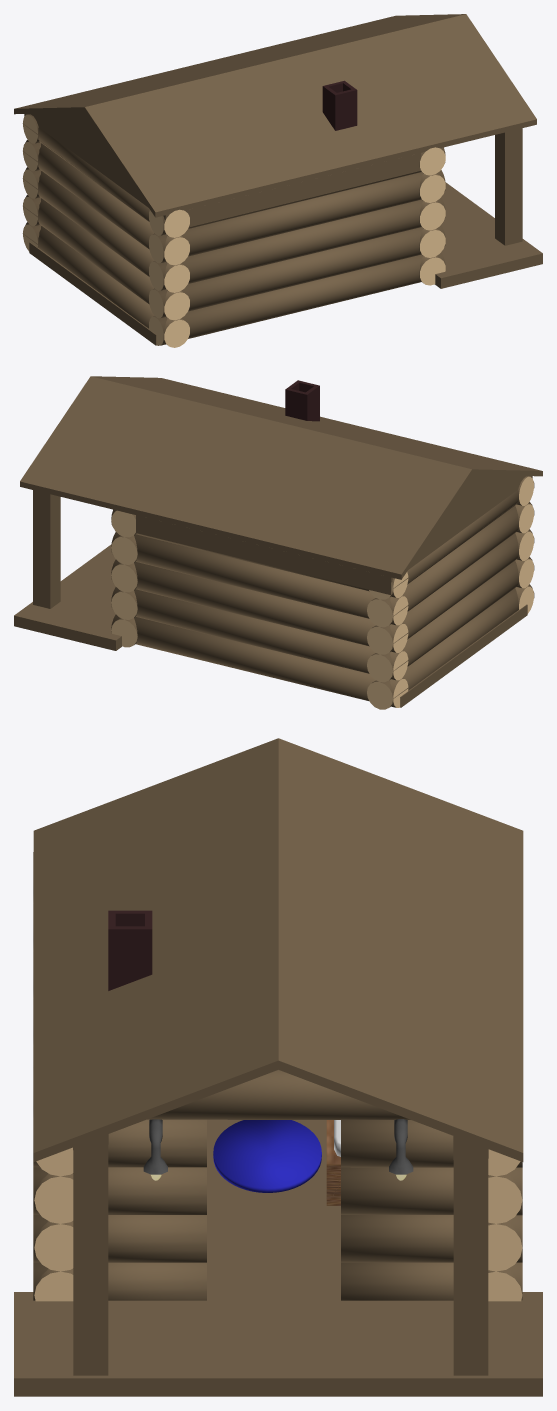
The model's file is Log Cabin NEW.fbx.
The picture shows the model from 3 angles, top to bottom: view 1: azimuth 30°, elevation 25°; view 2: azimuth 150°, elevation 25°; view 3: azimuth 270°, elevation 25°; orthographic projection. The views are drawn at different scales.
Visible parts, largest first — view 1: Chimney.001, Front Wall, Chimney; view 2: Chimney.001, Front Wall, Chimney; view 3: Chimney.001, Chimney, Front Wall, Carpet, Light.L, Bedframe.
Boxes of the visible parts, left/top/right/bottom form: Chimney.001: left=14, top=14, right=536, bottom=232; Front Wall: left=22, top=114, right=445, bottom=347; Chimney: left=29, top=128, right=542, bottom=345; Chimney.001: left=20, top=376, right=542, bottom=595; Front Wall: left=111, top=476, right=534, bottom=709; Chimney: left=14, top=490, right=527, bottom=707; Chimney.001: left=33, top=738, right=523, bottom=1161; Chimney: left=14, top=1119, right=542, bottom=1396; Front Wall: left=33, top=852, right=522, bottom=1301; Carpet: left=213, top=1120, right=321, bottom=1192; Light.L: left=143, top=1119, right=413, bottom=1180; Bedframe: left=326, top=1120, right=340, bottom=1205.
Size of the model in its own units: 747 by 363 by 518.
Materials: 15 (10 with a texture image).
